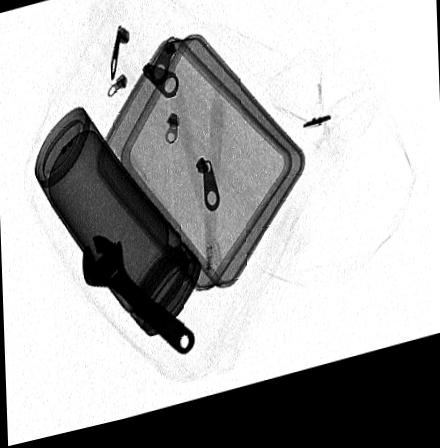Wrench: (81, 238, 198, 365)
